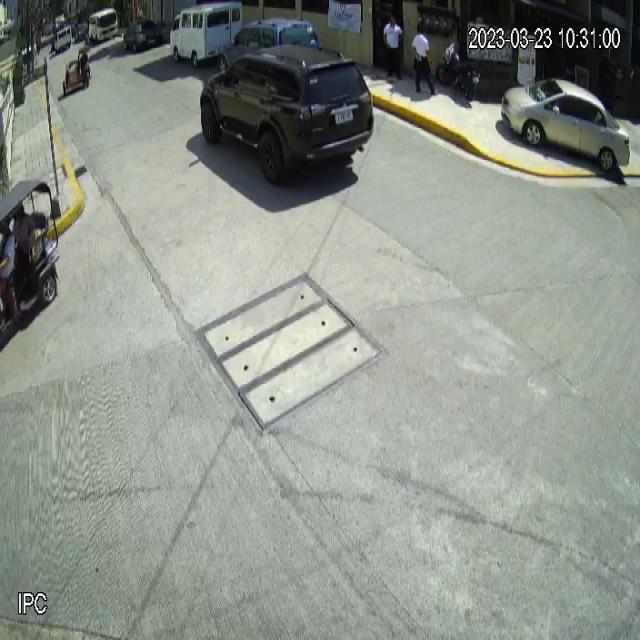Car: (200, 42, 374, 184), (501, 76, 631, 174)
Van: (169, 0, 243, 66)
